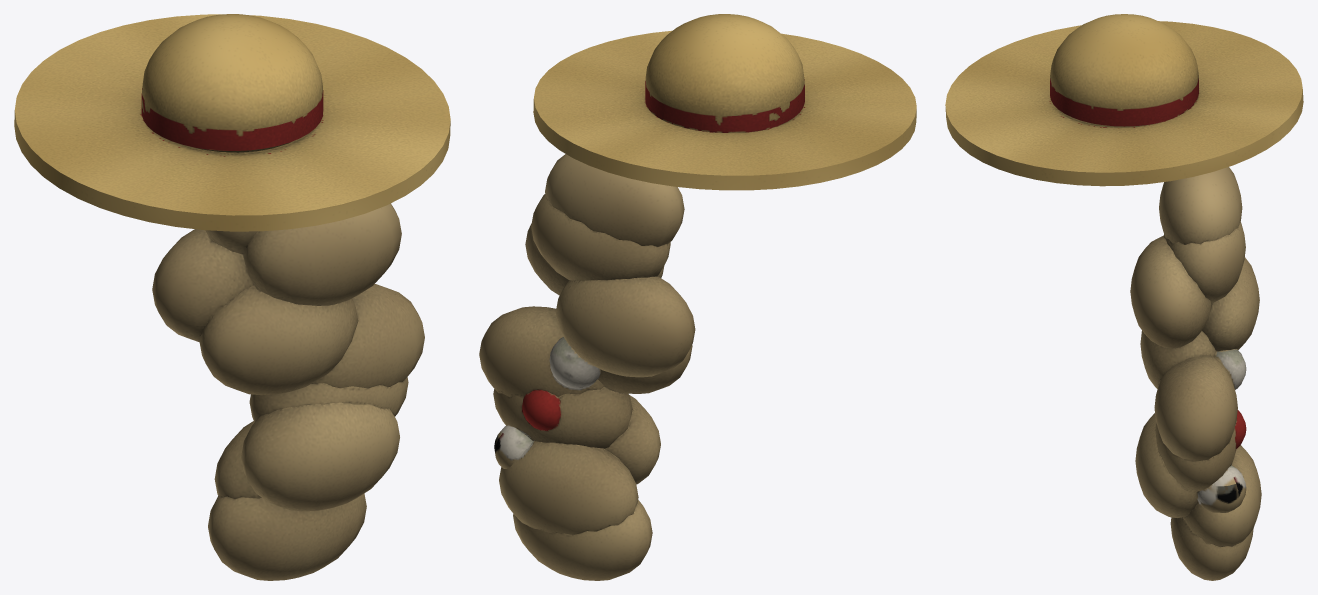
File: npc_pescador.glb
3 views of the same model, side by side, from view 1: azimuth 30°, elevation 25°; view 2: azimuth 150°, elevation 25°; view 3: azimuth 270°, elevation 25° (orthographic). The views are drawn at different scales.
Visible parts, largest first — view 1: pescador_Head_peca, pescador_Spine2_peca; view 2: pescador_Spine2_peca, pescador_Head_peca; view 3: pescador_Head_peca, pescador_Spine2_peca.
Boxes of the visible parts, bbox=[...] form: pescador_Head_peca: bbox=[14, 14, 450, 231]; pescador_Spine2_peca: bbox=[152, 203, 424, 580]; pescador_Spine2_peca: bbox=[479, 154, 695, 580]; pescador_Head_peca: bbox=[533, 14, 916, 190]; pescador_Head_peca: bbox=[945, 14, 1303, 186]; pescador_Spine2_peca: bbox=[1130, 167, 1261, 580].
Size of the model in its own units: 0.5352 by 0.7498 by 0.4804.
2 materials, 2 textured.
